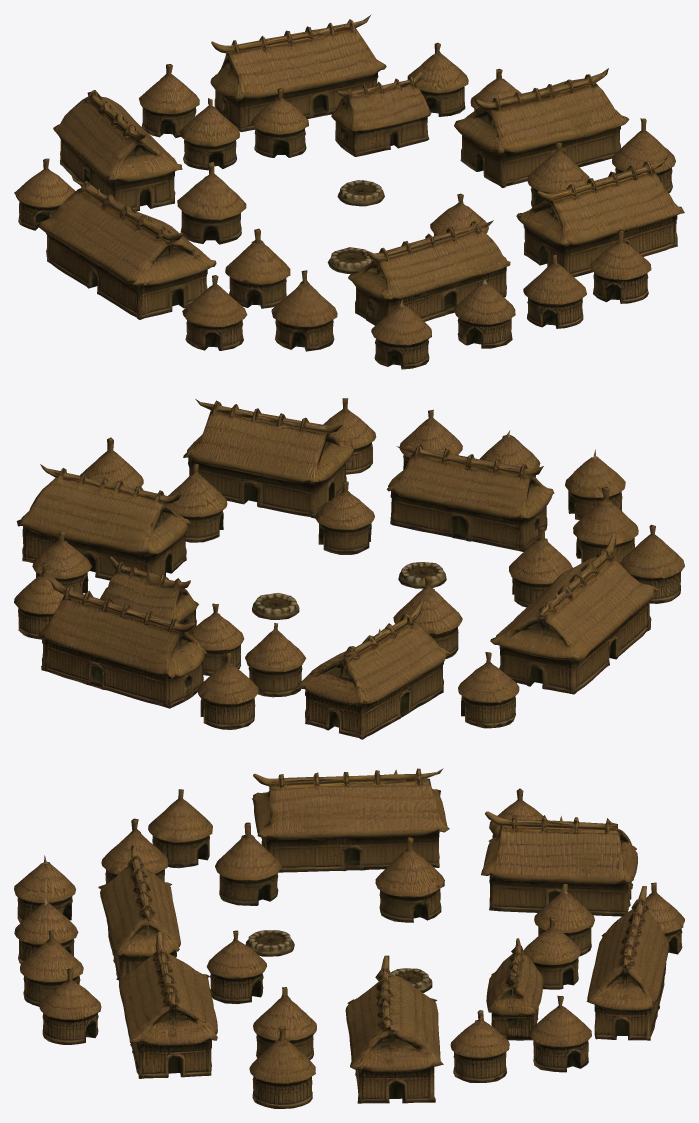
The model's file is Prehistoric Town (East Asian).fbx.
The picture shows the model from 3 angles, top to bottom: view 1: azimuth 30°, elevation 25°; view 2: azimuth 150°, elevation 25°; view 3: azimuth 270°, elevation 25°; orthographic projection. The views are drawn at different scales.
Visible parts, largest first — view 1: tripo_node_c4101f42; view 2: tripo_node_c4101f42; view 3: tripo_node_c4101f42.
Part boxes in pixels (<box>): tripo_node_c4101f42: <box>14,14,684,369</box>; tripo_node_c4101f42: <box>14,398,684,739</box>; tripo_node_c4101f42: <box>14,768,684,1108</box>.
Bounding box in the file's own units: 0.9986 × 0.1364 × 1.
